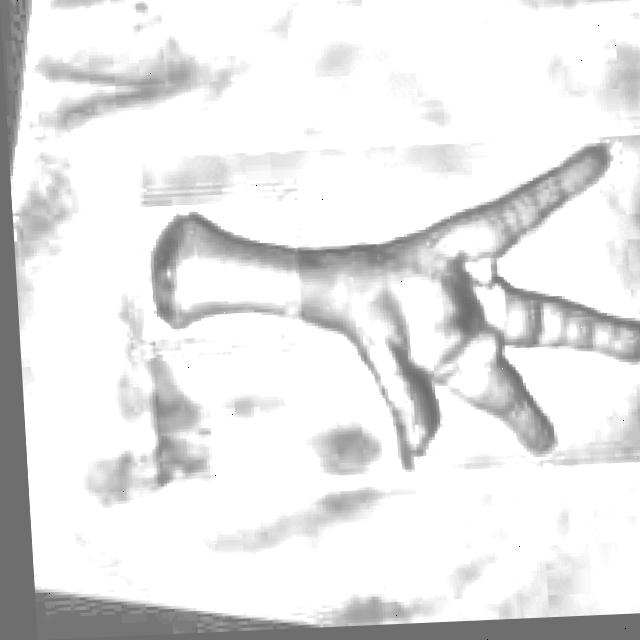Bumble foot: (140, 141, 640, 475)
